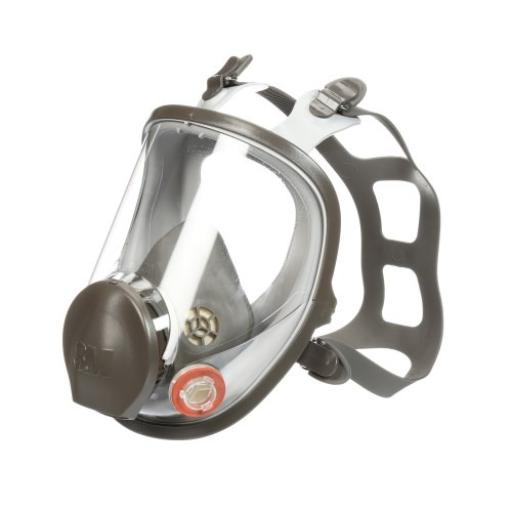mask: (54, 64, 438, 439)
